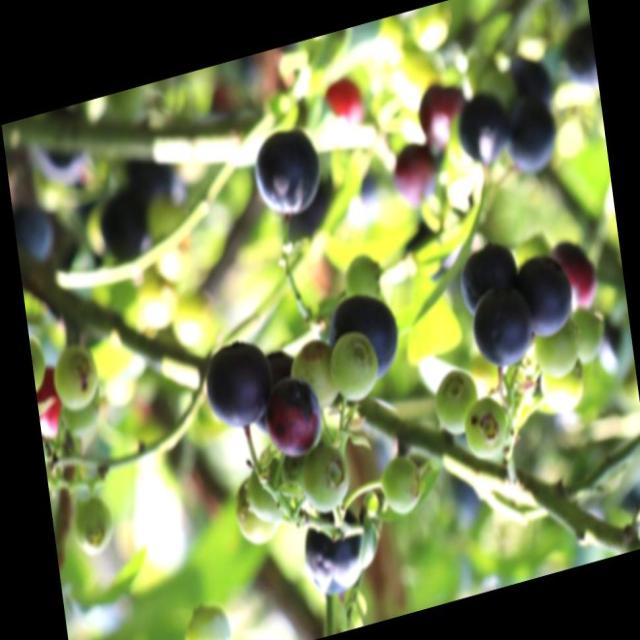blueberry: (322, 285, 405, 396), (248, 113, 329, 225), (196, 329, 276, 440), (465, 280, 535, 376), (299, 504, 367, 602), (259, 367, 326, 466), (455, 235, 524, 324), (516, 243, 575, 344), (500, 94, 561, 178), (457, 91, 510, 173)
blueberry-halfripe: (416, 72, 472, 154), (554, 230, 601, 314), (390, 138, 440, 213)
blueberry-unripe: (300, 442, 354, 517), (328, 327, 378, 404), (428, 364, 478, 441), (50, 339, 100, 413), (291, 335, 337, 413), (461, 391, 510, 463), (69, 492, 119, 560), (231, 477, 278, 548), (377, 449, 425, 518), (537, 356, 588, 418), (248, 462, 292, 526), (178, 596, 234, 639), (536, 322, 578, 378), (569, 303, 607, 364)
